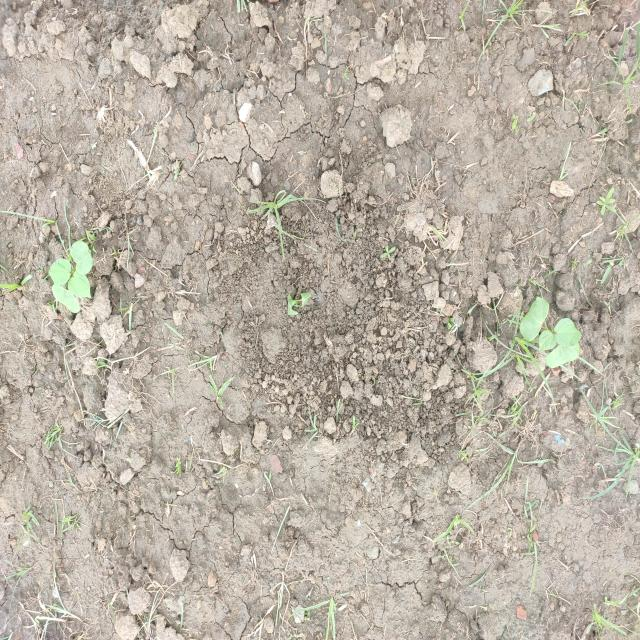seedling_s4: (520, 297, 549, 341), (546, 343, 580, 368), (52, 284, 80, 314), (553, 318, 582, 346), (70, 241, 94, 274), (68, 271, 92, 300), (48, 258, 71, 285), (538, 331, 556, 350)
